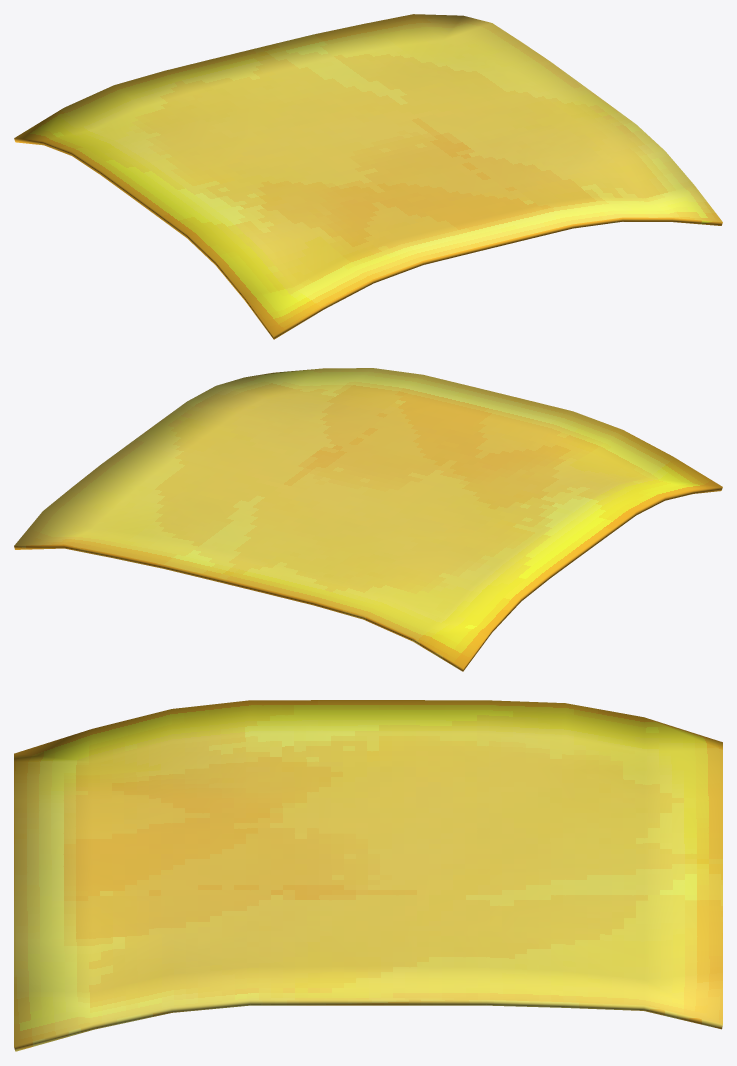
The model's file is Topz-cheese.glb.
3 renders of one model, top to bottom at view 1: azimuth 30°, elevation 25°; view 2: azimuth 150°, elevation 25°; view 3: azimuth 270°, elevation 25°, orthographic. The views are drawn at different scales.
Parts seen in each view (by area): view 1: Topz-cheese; view 2: Topz-cheese; view 3: Topz-cheese.
Part boxes in pixels (bbox=[...]): Topz-cheese: bbox=[14, 14, 722, 339]; Topz-cheese: bbox=[14, 368, 722, 671]; Topz-cheese: bbox=[14, 700, 722, 1051].
Size of what is drawn, in the model's own units: 2.02 by 0.1849 by 2.02.
1 material, 1 textured.
